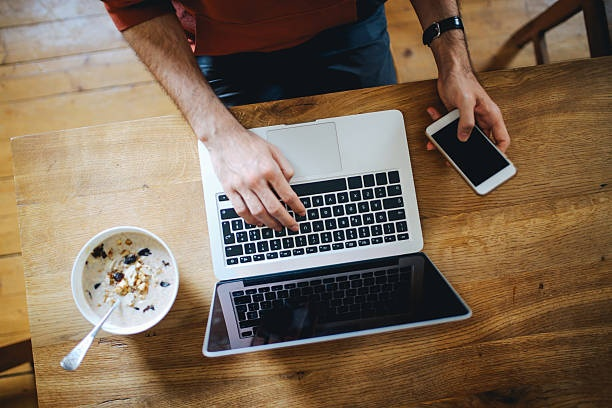keyboard: (210, 167, 412, 261)
laptop: (196, 108, 474, 357)
phone: (424, 107, 518, 198)
